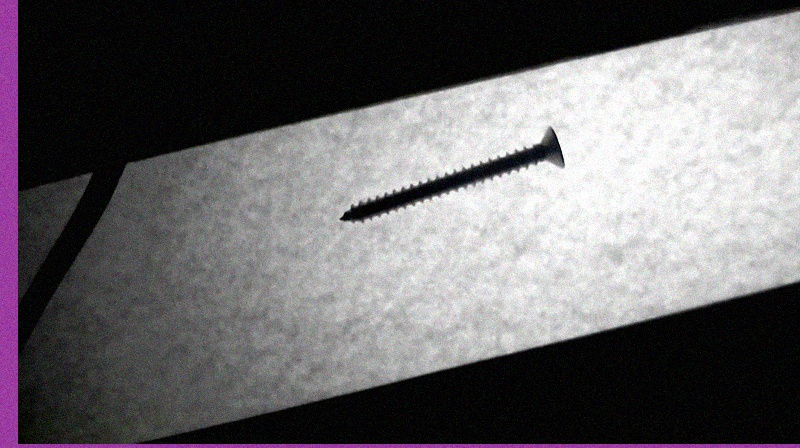S002: (336, 123, 569, 224)
